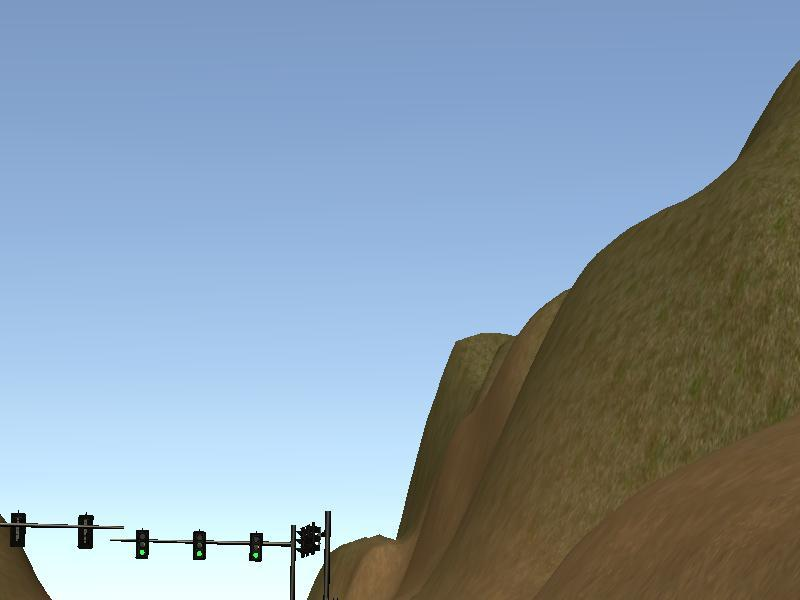Green: (136, 531, 149, 559), (192, 531, 205, 559), (249, 533, 262, 561)
